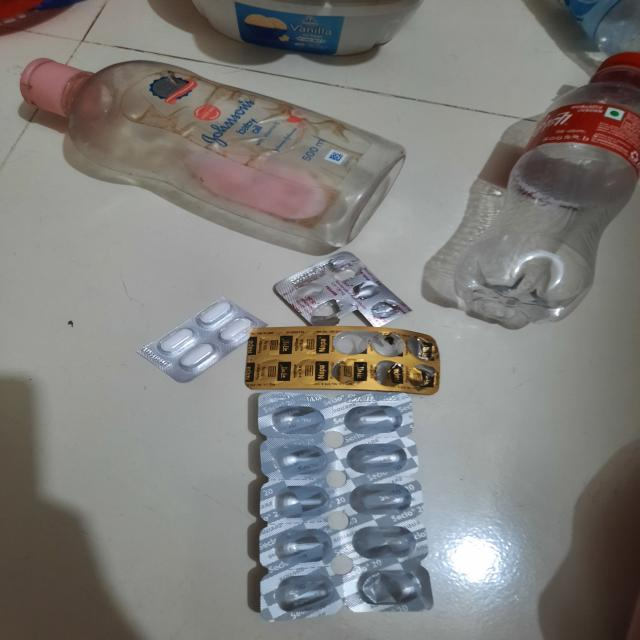Medical Waste: (136, 245, 454, 630)
Plastics: (13, 39, 440, 258), (475, 11, 640, 378)
